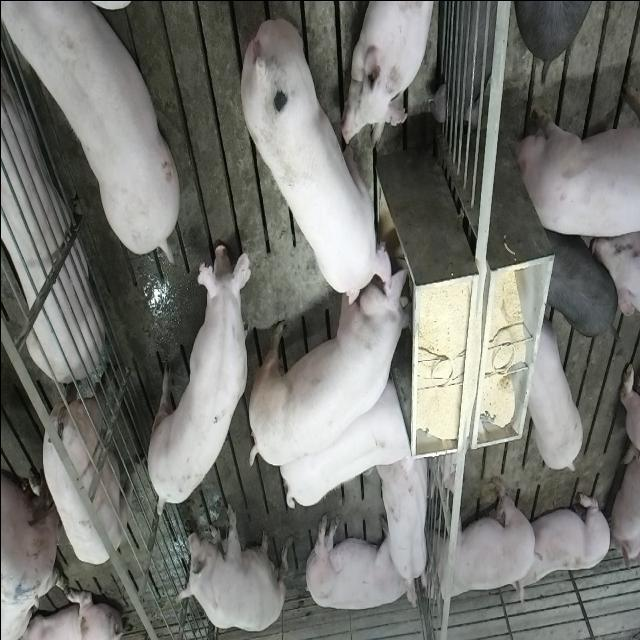Feeding: (237, 16, 395, 306), (250, 250, 418, 468)
Lateral_lying: (302, 511, 418, 611)
Sitting: (174, 502, 286, 632)
Standing: (0, 0, 176, 257), (144, 232, 248, 512), (33, 360, 132, 564), (513, 84, 637, 238), (278, 381, 411, 513), (423, 472, 537, 610), (525, 319, 587, 476), (542, 221, 618, 337)
Sternal_lying: (0, 40, 101, 385), (344, 0, 438, 146), (521, 488, 611, 606), (377, 449, 432, 591)
